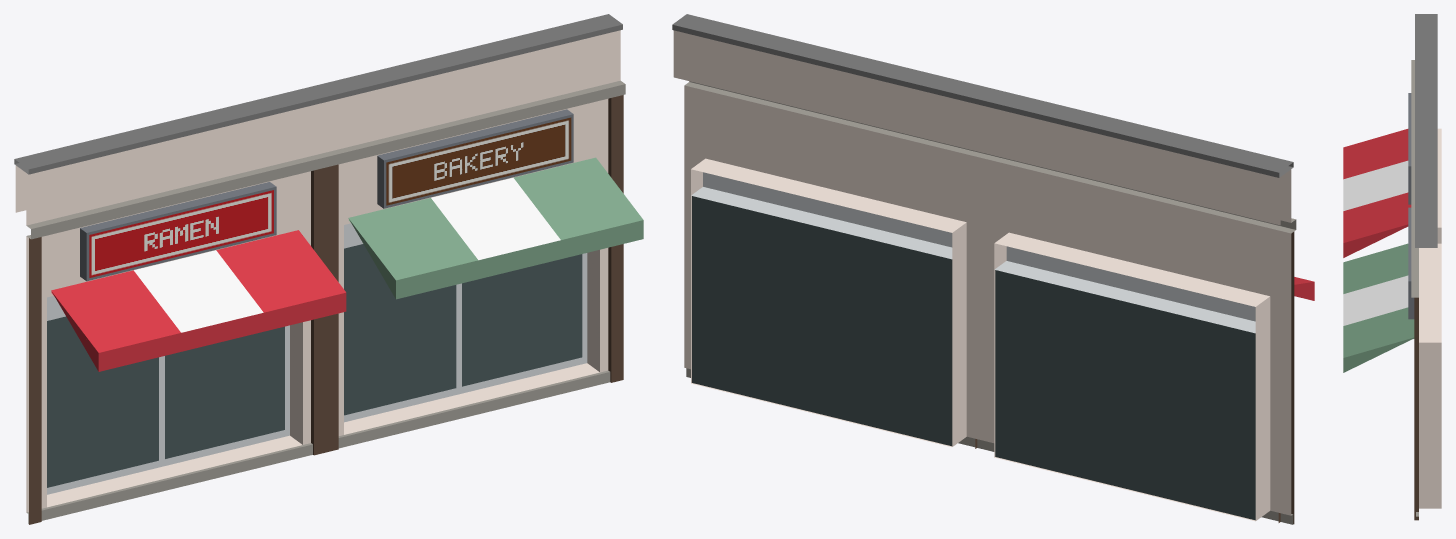
3 renders of one model, left to right at view 1: azimuth 30°, elevation 25°; view 2: azimuth 150°, elevation 25°; view 3: azimuth 270°, elevation 25°, orthographic. The views are drawn at different scales.
Visible parts, largest first — view 1: a2003/0/base-w1; view 2: a2003/0/base-w1; view 3: a2003/0/base-w1.
Boxes of the visible parts, bbox=[...] form: a2003/0/base-w1: bbox=[14, 14, 643, 524]; a2003/0/base-w1: bbox=[672, 14, 1314, 524]; a2003/0/base-w1: bbox=[1343, 14, 1441, 520].
Size of the model in its own units: 7.2 by 4.11 by 1.3.
